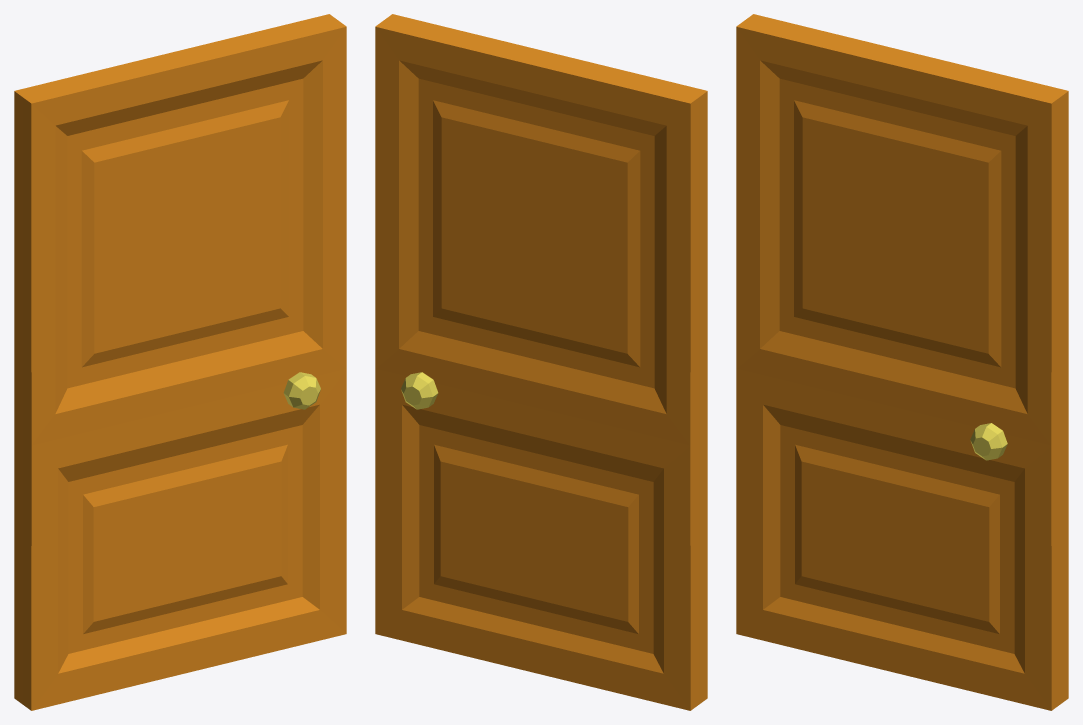
File: дверь.fbx
3 views of the same model, side by side, from view 1: azimuth 30°, elevation 25°; view 2: azimuth 150°, elevation 25°; view 3: azimuth 330°, elevation 25° (orthographic).
Visible parts, largest first — view 1: Cube, Cylinder; view 2: Cube, Cylinder; view 3: Cube, Cylinder.
Boxes of the visible parts, x1=… form: Cube: x1=14, y1=14, x2=346, y2=710; Cylinder: x1=283, y1=372, x2=320, y2=409; Cube: x1=375, y1=14, x2=707, y2=710; Cylinder: x1=401, y1=372, x2=438, y2=409; Cube: x1=736, y1=14, x2=1068, y2=710; Cylinder: x1=970, y1=423, x2=1007, y2=460.
Bounding box in the file's own units: 109 × 200 × 29.4.
